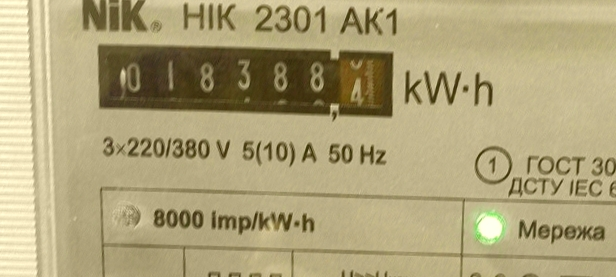0: (123, 58, 145, 95)
1: (161, 55, 181, 92)
3: (234, 56, 256, 92)
4: (347, 73, 368, 107)
8: (196, 57, 219, 94), (306, 57, 329, 94), (270, 59, 292, 95)
screen: (87, 28, 409, 133)
